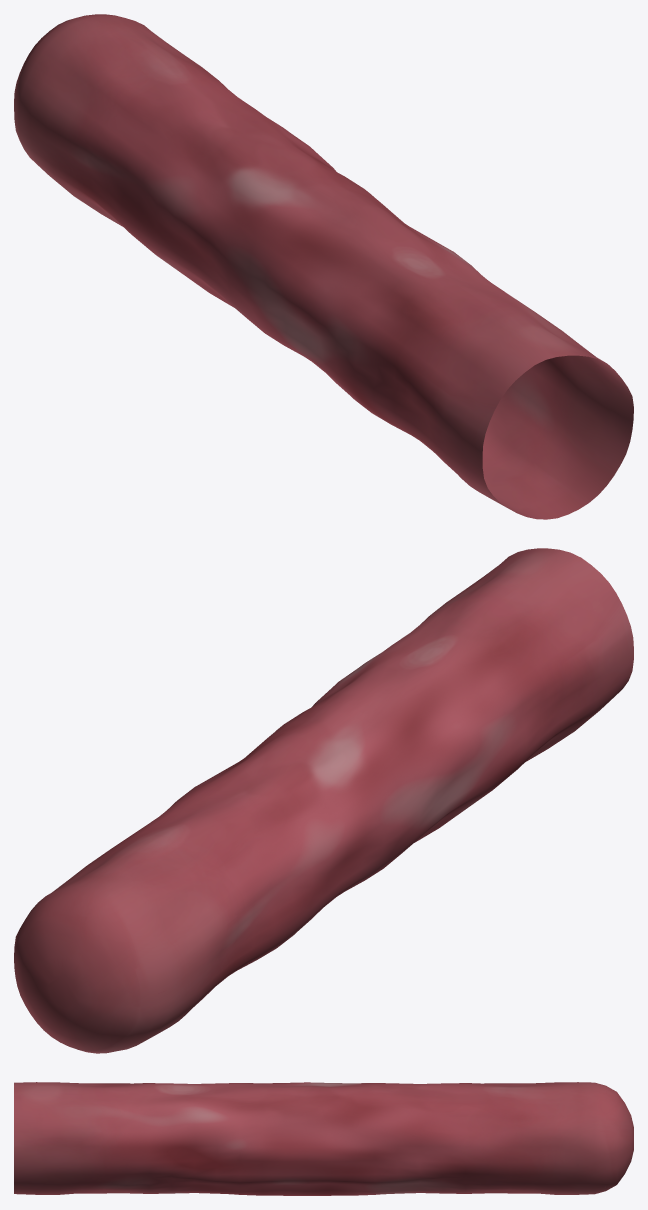
Rendered from FinalVagiainaFBX.fbx.
The picture shows the model from 3 angles, top to bottom: view 1: azimuth 30°, elevation 25°; view 2: azimuth 150°, elevation 25°; view 3: azimuth 270°, elevation 25°; orthographic projection. The views are drawn at different scales.
Visible parts, largest first — view 1: VagiainaFinal; view 2: VagiainaFinal; view 3: VagiainaFinal.
Boxes of the visible parts, <box> form: VagiainaFinal: <box>14,14,633,519</box>; VagiainaFinal: <box>14,548,633,1053</box>; VagiainaFinal: <box>14,1082,633,1195</box>.
Bounding box in the file's own units: 77.65 × 76.99 × 423.
